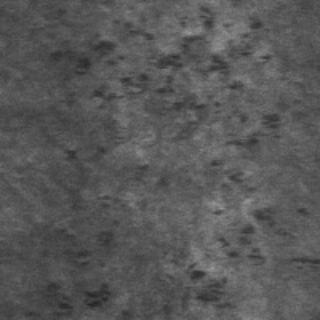rolled pit: (46, 3, 280, 137), (162, 134, 270, 314), (46, 224, 118, 312)
